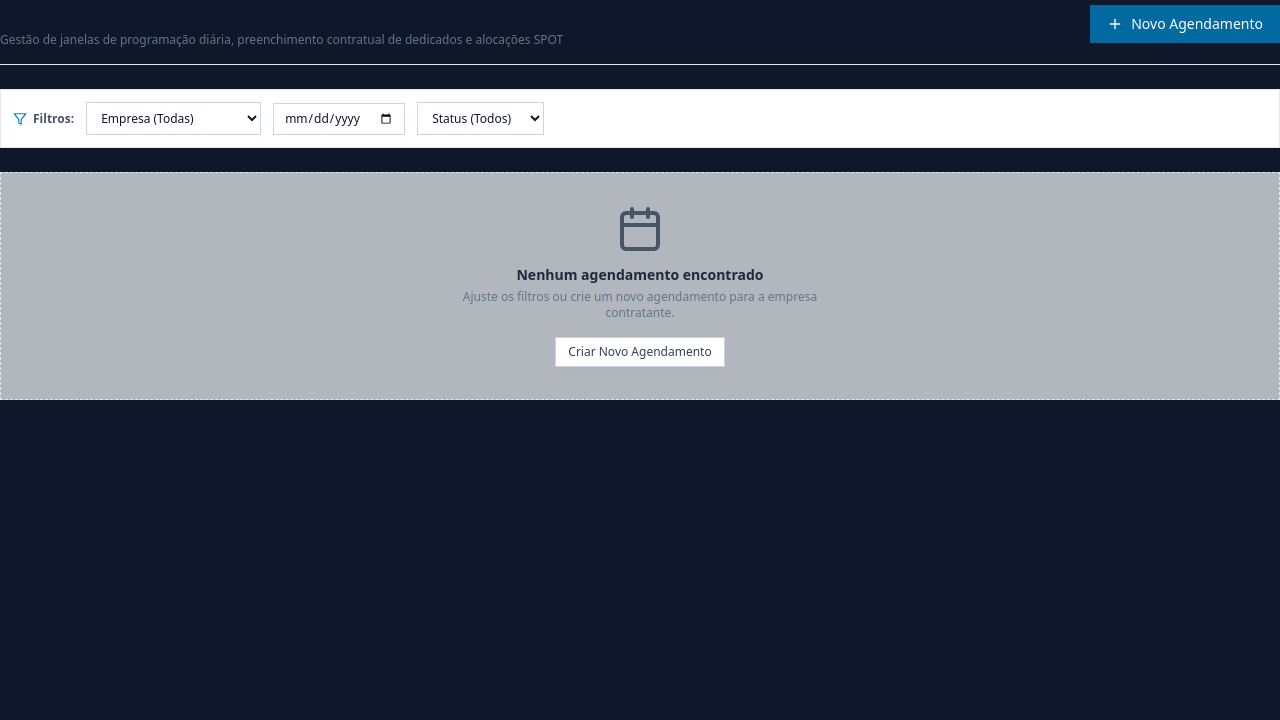
Test: Suíte de Testes da Fase 4.2 — Módulos Operacionais e Interações Críticas › deve tratar erro retornado pela API na criação de agendamento
This screenshot has width=1280, height=720.
Expected: the heading "Nenhum agendamento encontrado" is shown, [516, 265, 764, 285]
Click the button "Novo Agendamento".
click(1185, 24)  # box [1090, 5, 1279, 43]
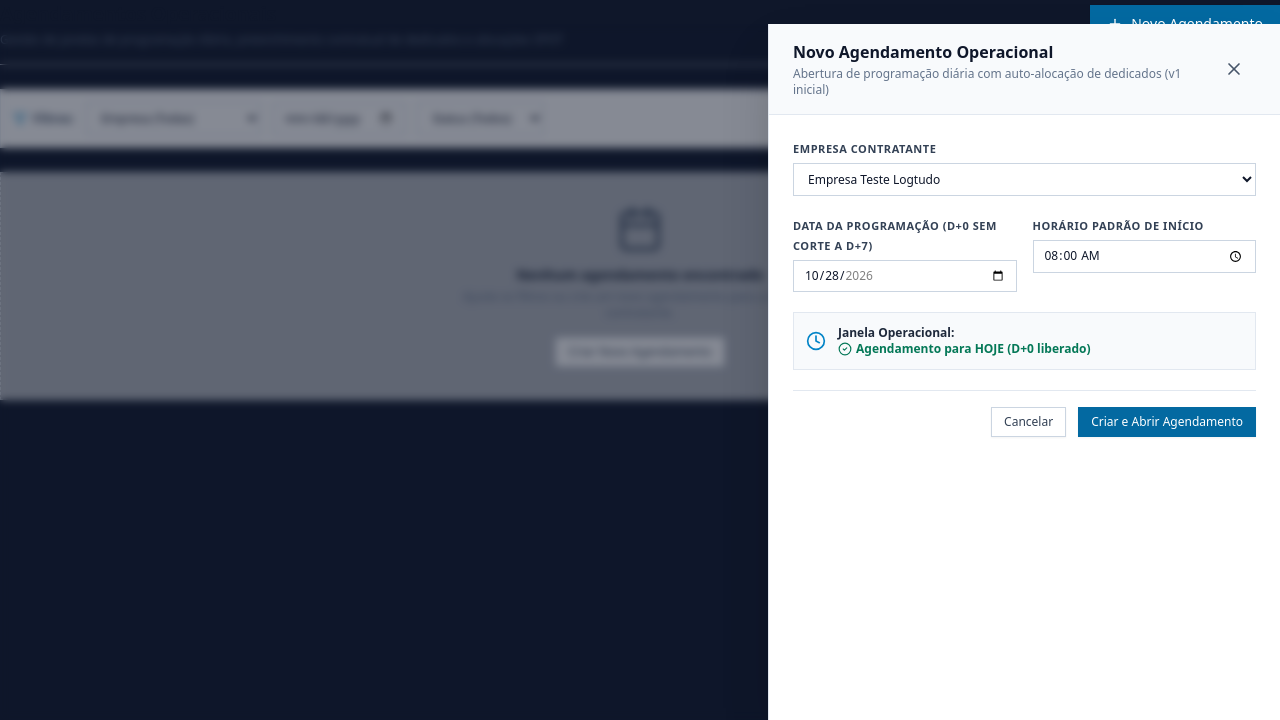
Now the heading "Novo Agendamento Operacional" is shown, box [793, 41, 1053, 63]
Click the button "Criar e Abrir Agendamento".
click(1167, 422)  # box [1078, 407, 1256, 437]
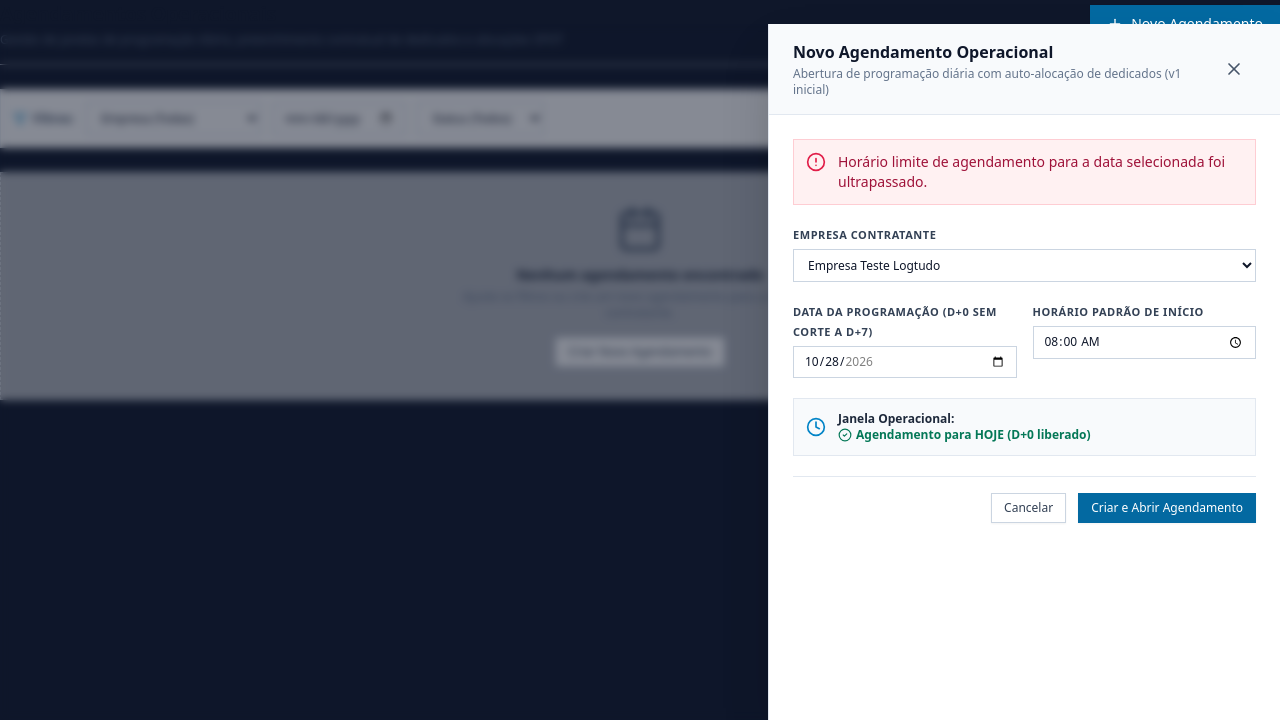
Now the text "Horário limite de agendamento para a data selecionada foi ultrapassado." is shown, box [838, 152, 1243, 192]
